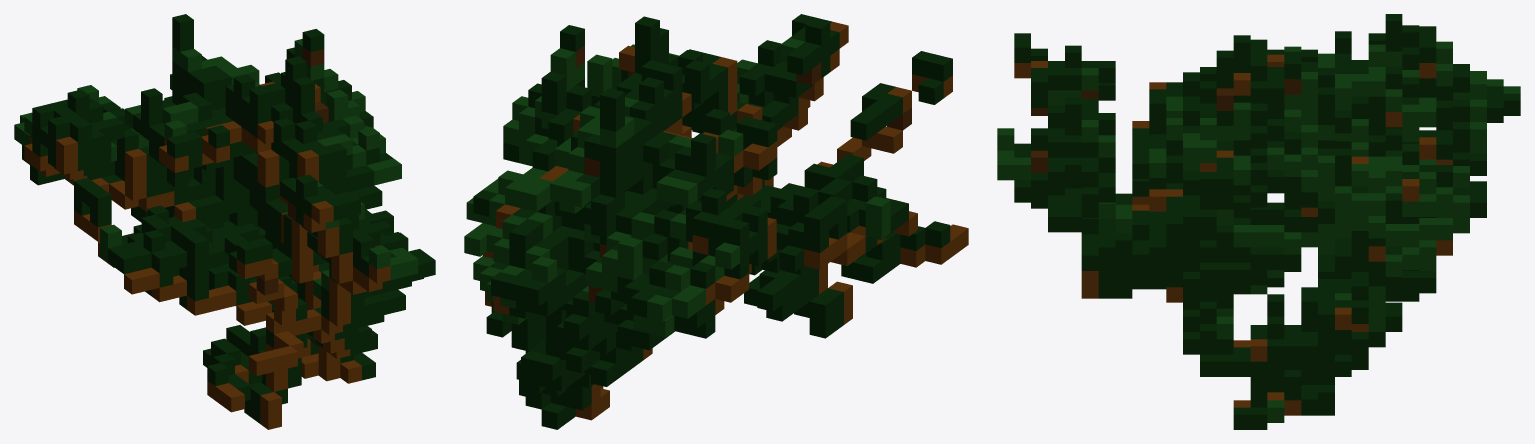
The model's file is Bush_1.obj.
3 renders of one model, left to right at view 1: azimuth 30°, elevation 25°; view 2: azimuth 150°, elevation 25°; view 3: azimuth 270°, elevation 25°, orthographic. The views are drawn at different scales.
Bounding box in the file's own units: 2.1 × 2.3 × 3.1.
1 material, 1 textured.
